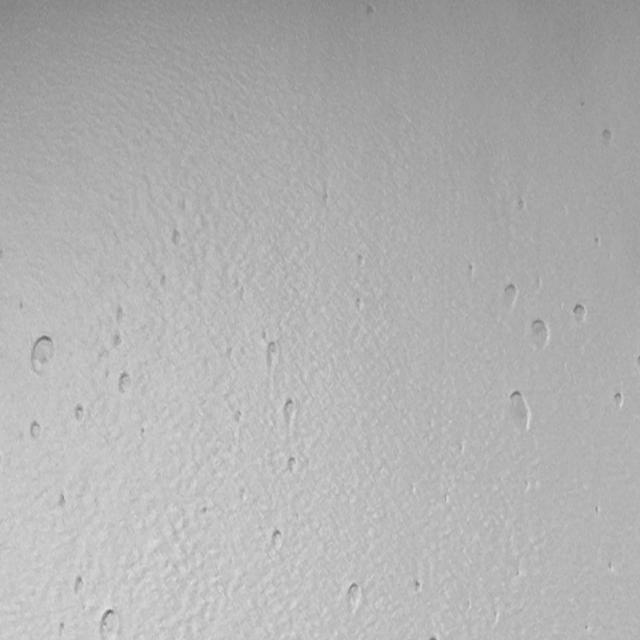pin holes: (503, 389, 536, 437), (31, 332, 59, 372), (99, 606, 122, 640), (532, 317, 553, 349), (343, 582, 365, 612), (569, 301, 591, 329), (500, 280, 520, 308), (278, 397, 297, 425), (117, 371, 137, 397), (596, 126, 616, 152), (268, 528, 286, 556), (27, 418, 45, 444), (70, 572, 86, 599), (610, 391, 628, 414), (72, 403, 90, 425), (462, 260, 480, 282), (265, 343, 280, 369), (169, 228, 186, 249), (286, 456, 302, 476), (363, 3, 378, 24), (112, 332, 127, 352), (514, 196, 529, 214), (113, 304, 125, 326), (351, 296, 365, 314), (232, 408, 246, 426), (411, 578, 424, 596), (356, 254, 369, 270), (591, 234, 603, 248)
